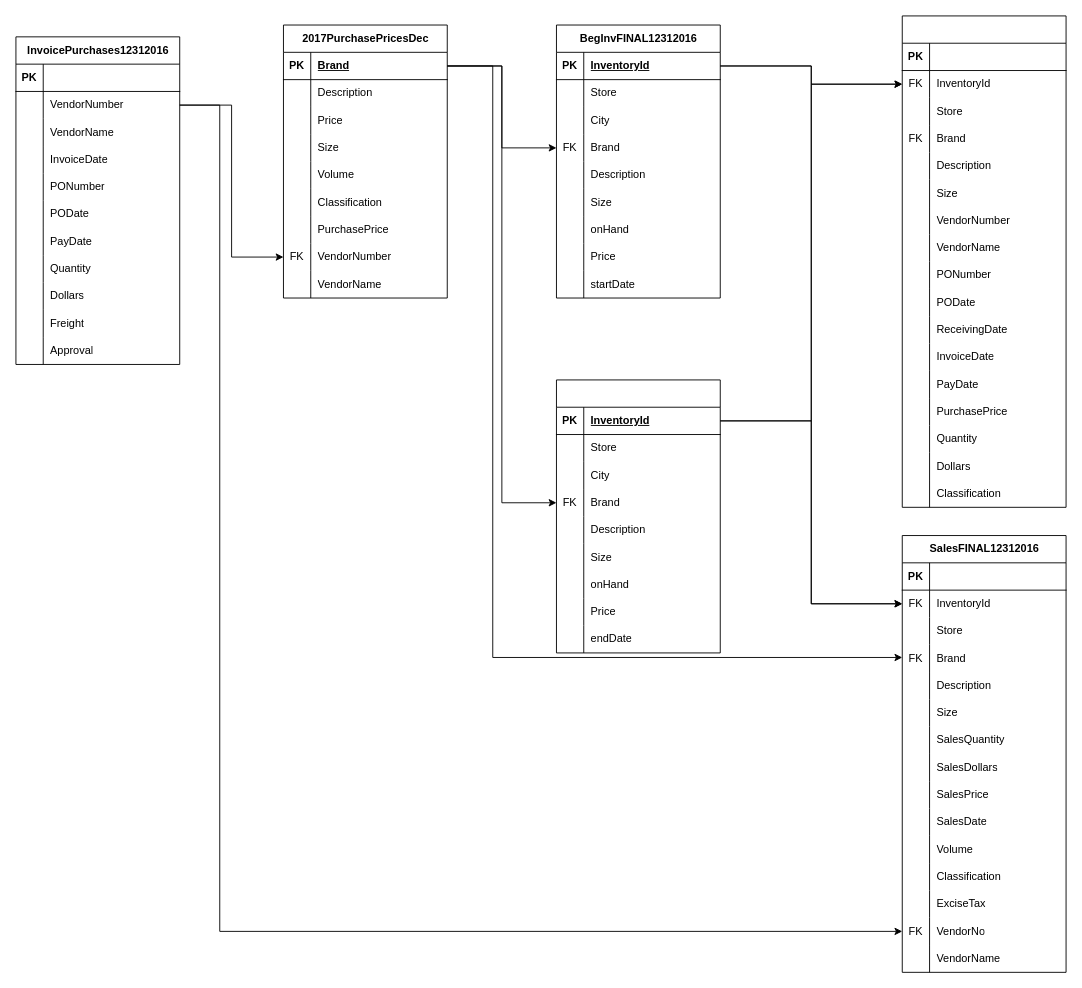
Image size: 1082x988. Some labels were removed from this diagram. Here are the shapes that lost their labels. From the top down, the box of each, then its label:
(901, 15, 1066, 507): PurchasesFINAL12312016
(556, 379, 720, 653): EndInvFINAL12312016
